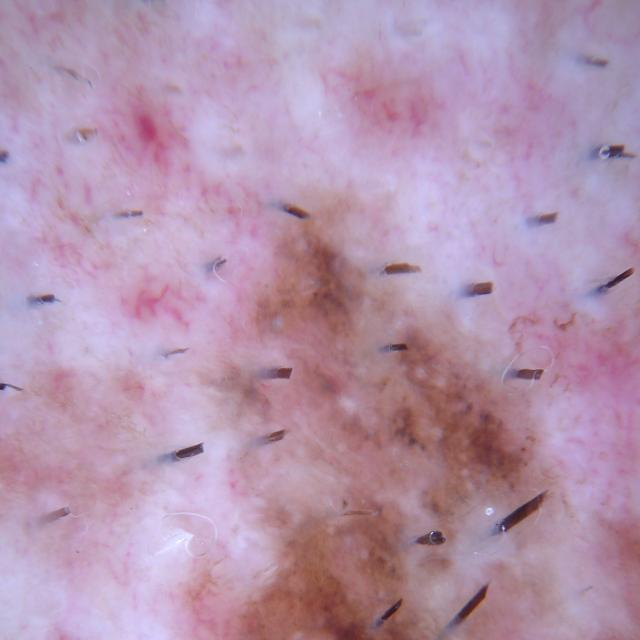Melanoma: (93, 244, 590, 640)
